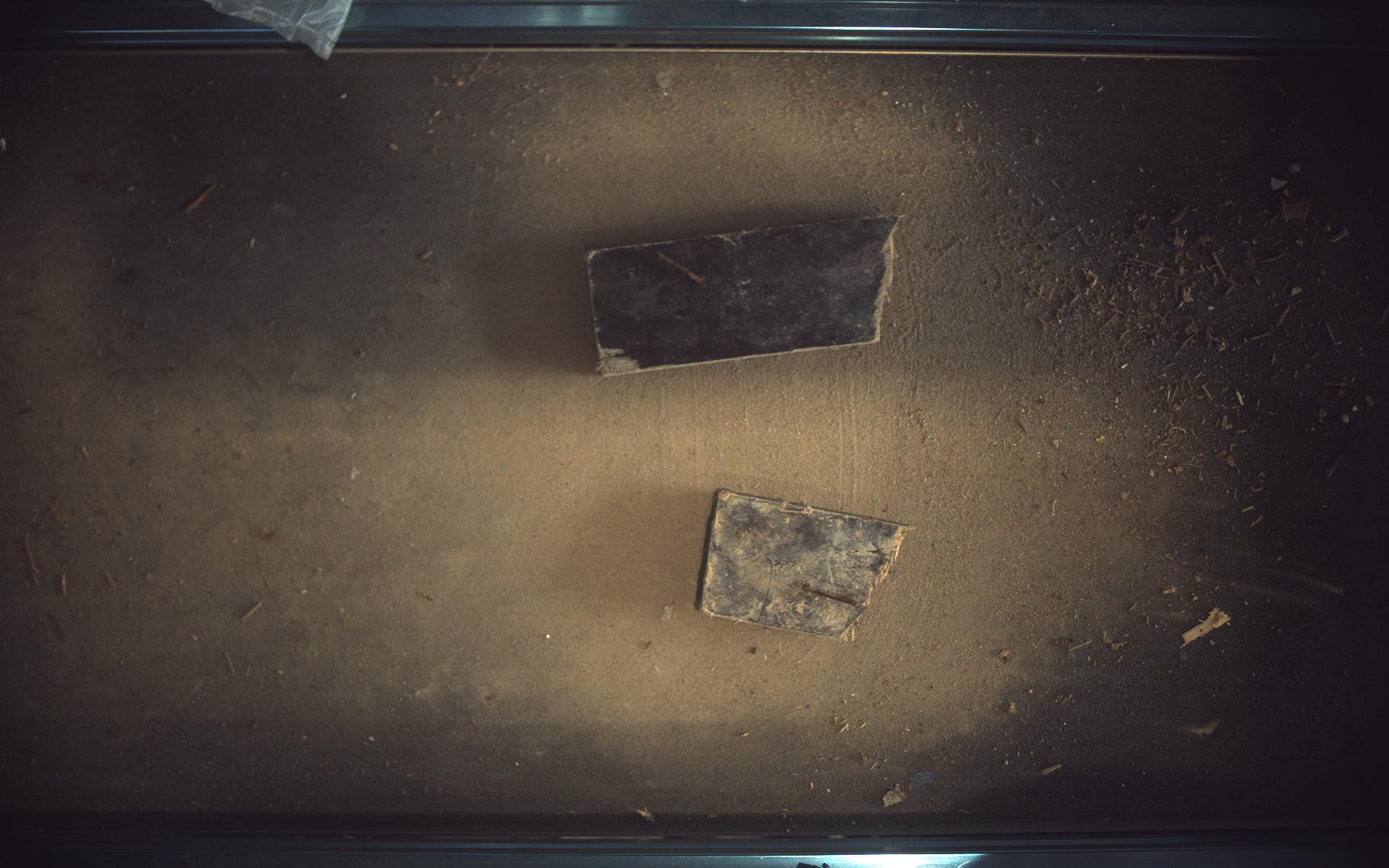wood: (588, 215, 900, 376), (700, 490, 914, 639)
